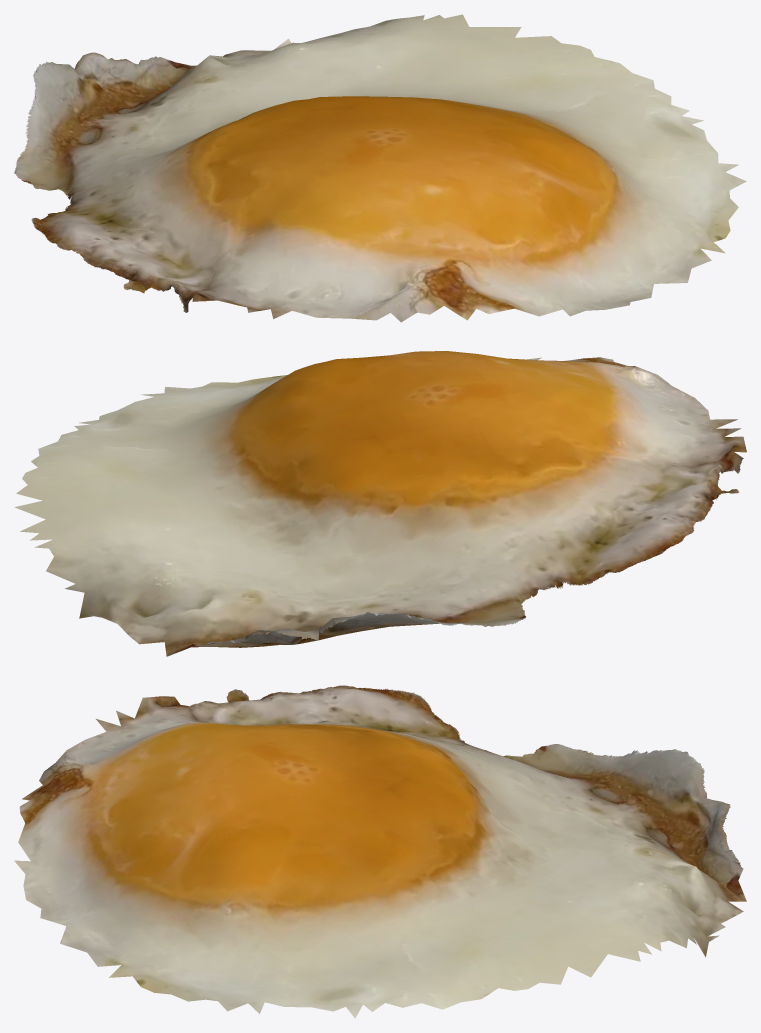
Rendered from egg.glb.
3 views of the same model, one above another, from view 1: azimuth 30°, elevation 25°; view 2: azimuth 150°, elevation 25°; view 3: azimuth 270°, elevation 25° (orthographic). The views are drawn at different scales.
Parts seen in each view (by area): view 1: defaultMaterial; view 2: defaultMaterial; view 3: defaultMaterial.
Boxes of the visible parts, x1,y1,x2,y2 form: defaultMaterial: [14, 14, 746, 322]; defaultMaterial: [14, 351, 746, 656]; defaultMaterial: [14, 685, 746, 1018].
Bounding box in the file's own units: 0.1158 × 0.0209 × 0.12.
1 material, 1 textured.
